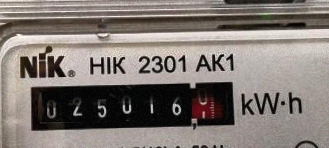0: (120, 92, 135, 115), (44, 98, 58, 120), (196, 86, 208, 106)
1: (145, 91, 157, 116), (199, 109, 207, 120)
2: (70, 94, 84, 117)
5: (95, 97, 107, 118)
6: (169, 93, 183, 118)
screen: (21, 72, 244, 137)
